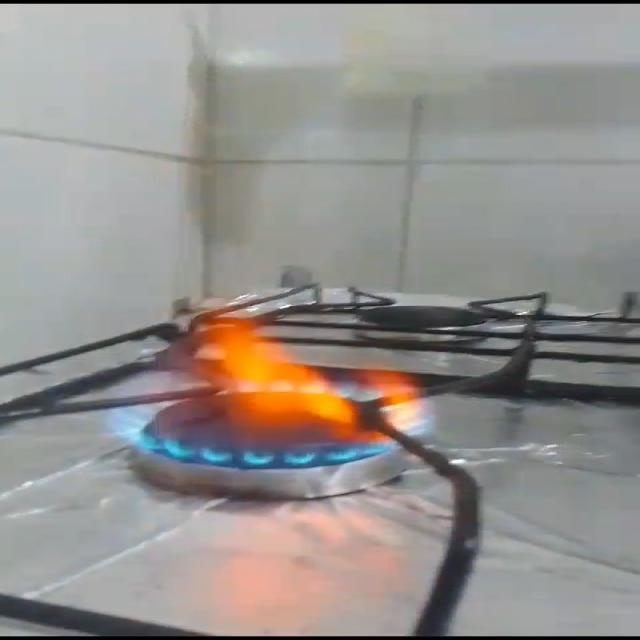fogo-ypXI: (101, 290, 440, 470)
